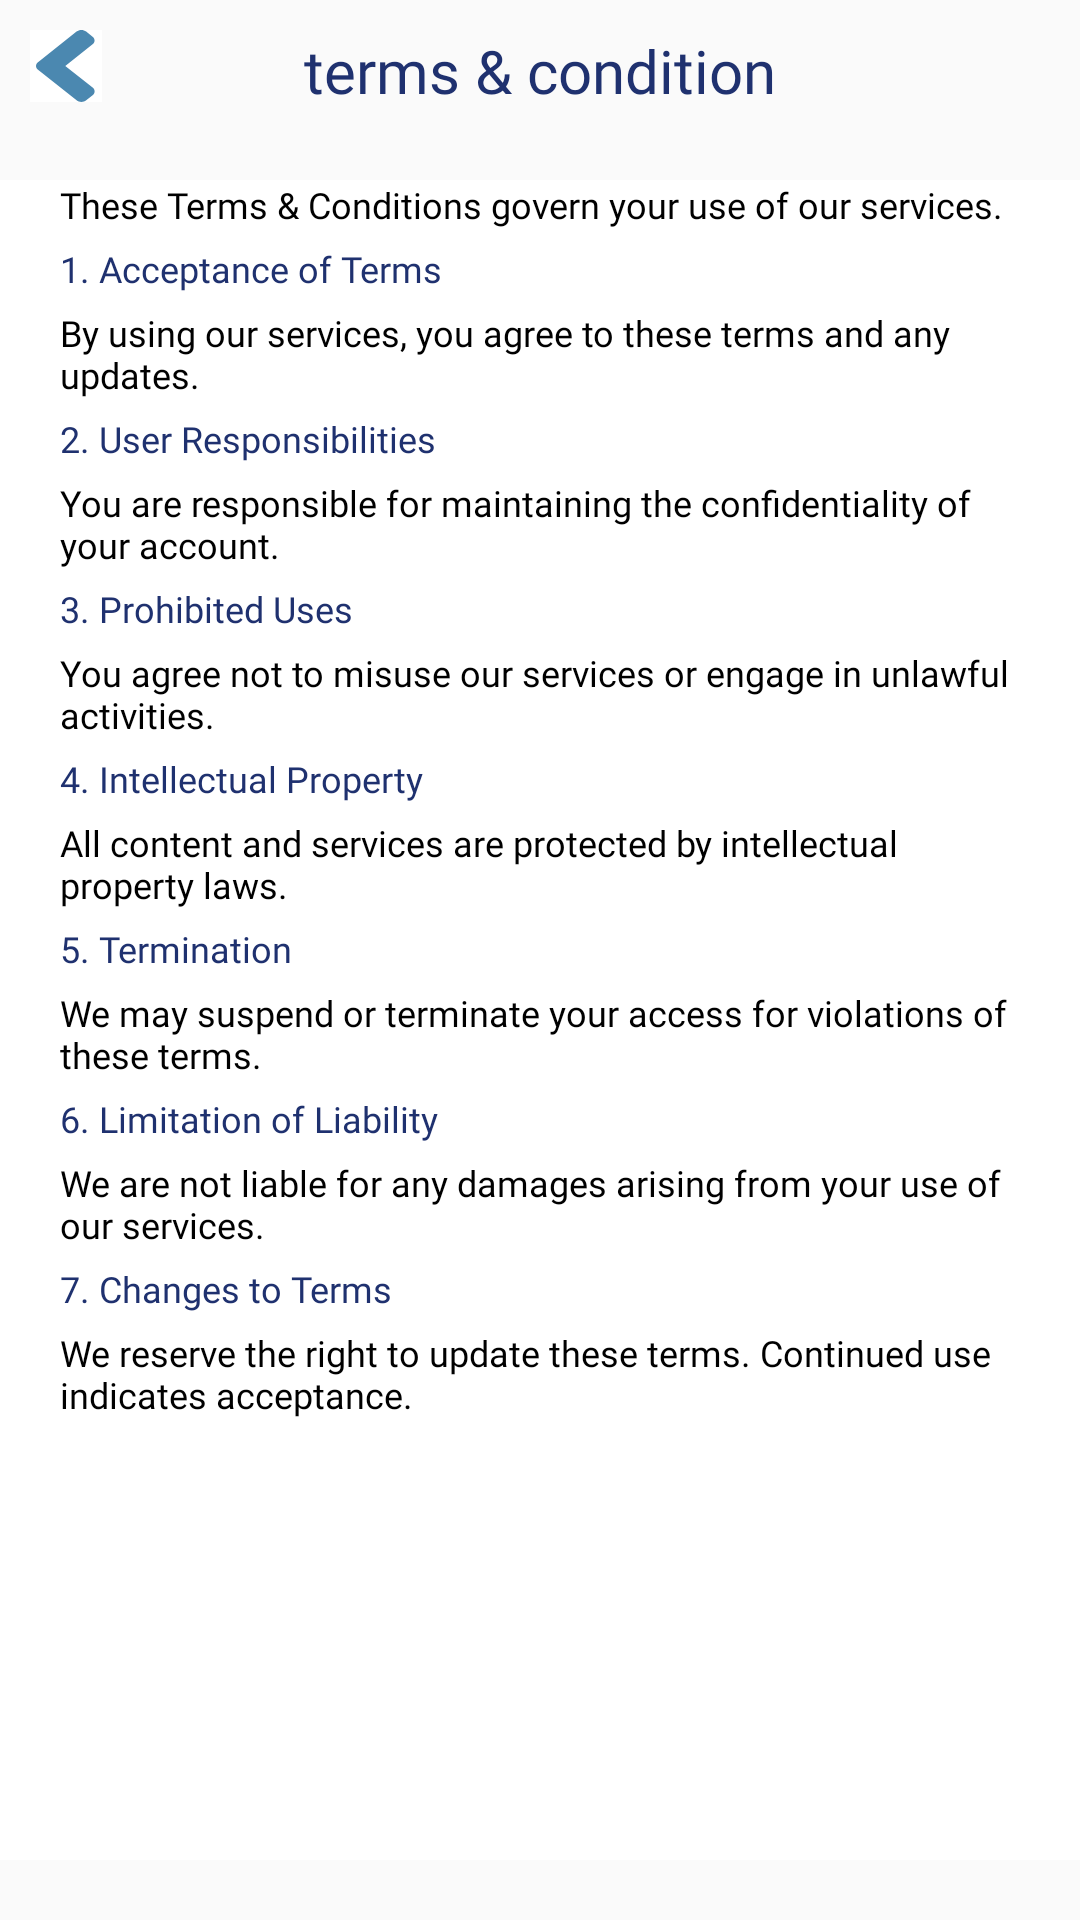

Named icons in this screenshot (1080*1920) and their centers, (x=x, y=y):
back arrow: (x=65, y=66)
